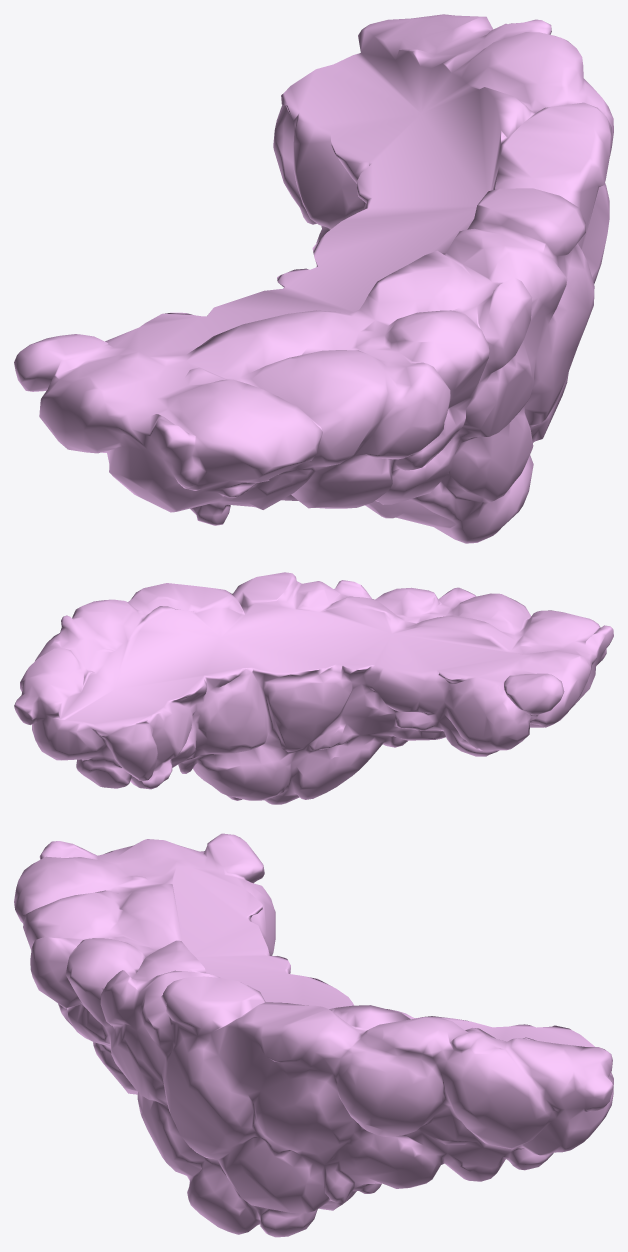
File: island_8_LOD3.fbx
3 renders of one model, top to bottom at view 1: azimuth 30°, elevation 25°; view 2: azimuth 150°, elevation 25°; view 3: azimuth 270°, elevation 25°, orthographic. The views are drawn at different scales.
Parts seen in each view (by area): view 1: island_8_LOD3; view 2: island_8_LOD3; view 3: island_8_LOD3.
Part boxes in pixels (left/top/right/bottom): island_8_LOD3: left=14, top=14, right=613, bottom=543; island_8_LOD3: left=14, top=572, right=613, bottom=804; island_8_LOD3: left=14, top=833, right=613, bottom=1237.
Size of the model in its own units: 2108 by 1031 by 2064.
